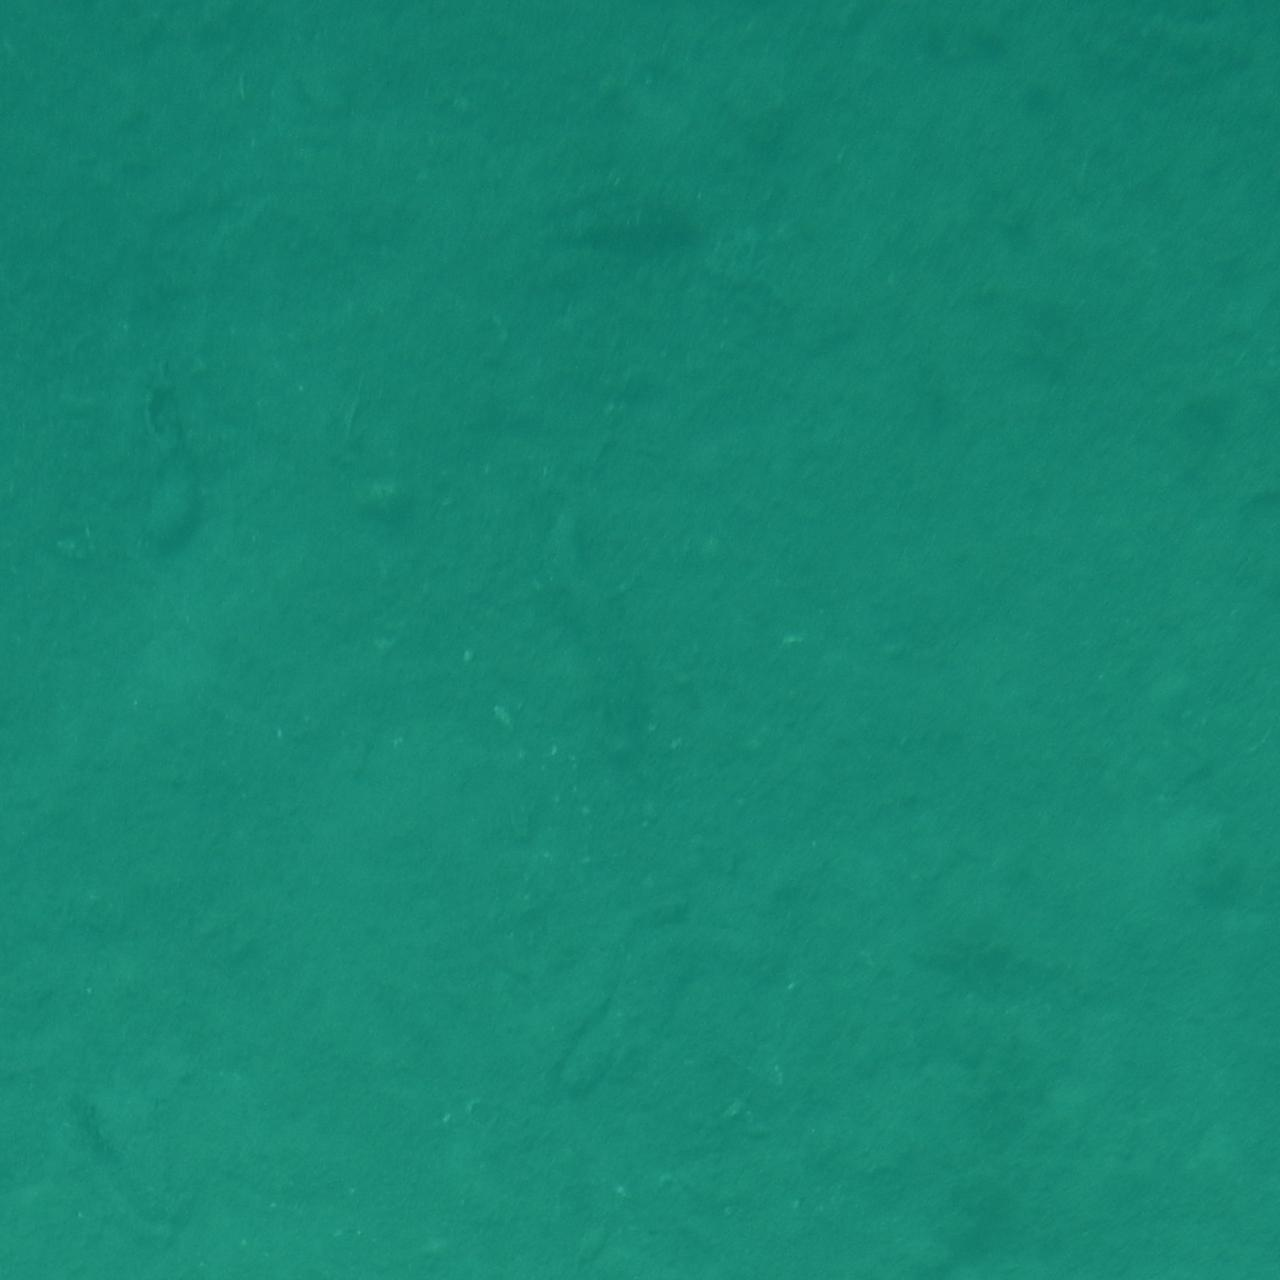Holothuria tubulosa: (544, 166, 736, 279)
